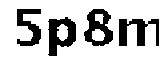5: (10, 6, 44, 50)
8: (82, 5, 116, 50)
m: (118, 14, 160, 52)
p: (46, 15, 78, 60)
